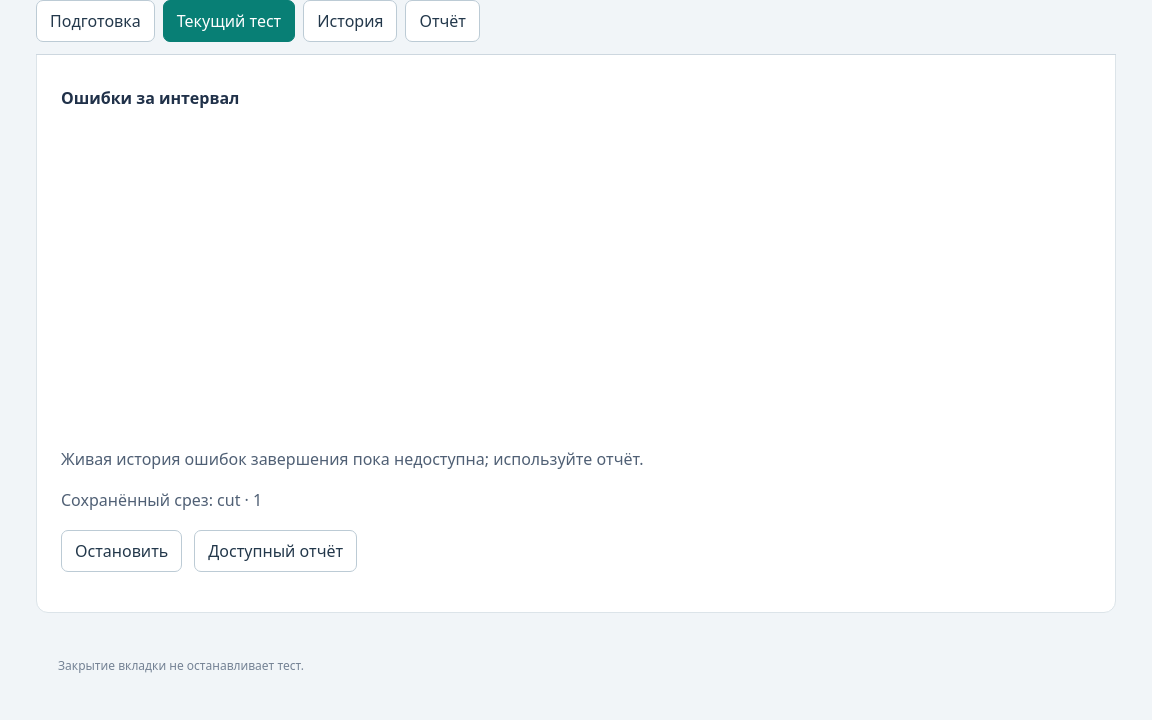
Scenario: appends sample pages and replaces changed chart revisions without mixing evidence
(page scrolled)
What coordinates should you click on to do the following:
click the button "Доступный отчёт"
I would click on:
 (276, 551)
Its box is [194,530,357,572].
(page scrolled)
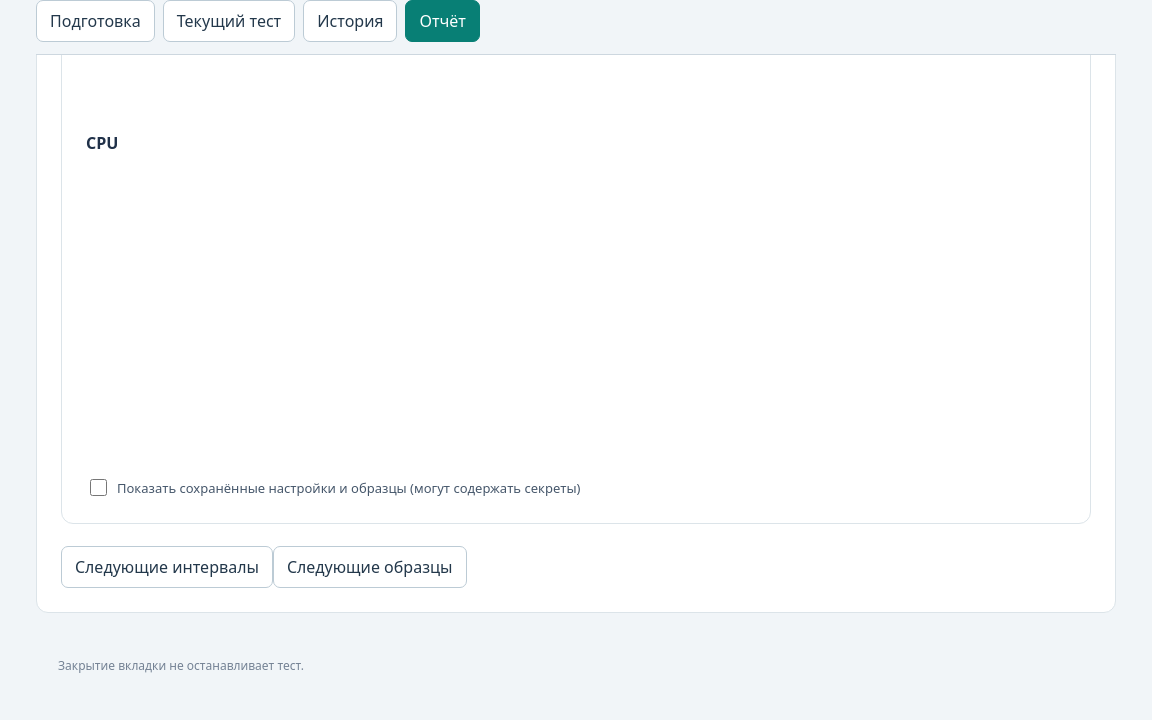
Result: the button "Следующие образцы" is shown
What coordinates should you click on to do the following:
click the button "Следующие образцы"
I would click on:
 (370, 567)
Its box is [273,546,467,588].
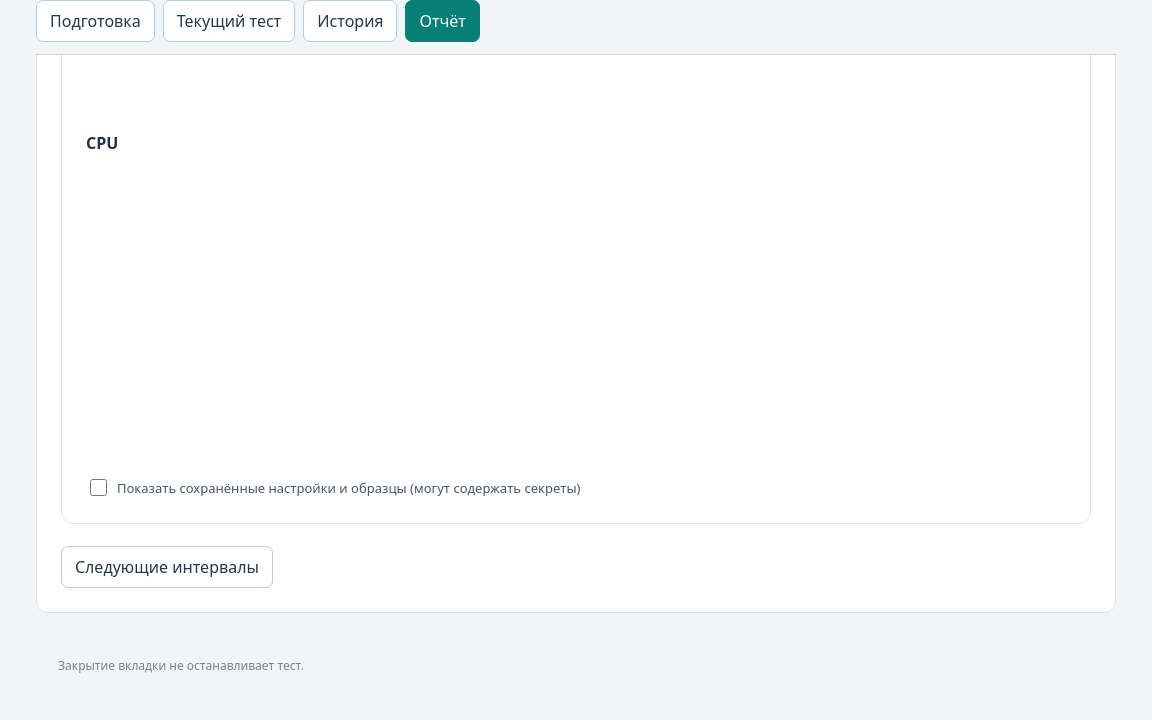
What coordinates should you click on to do the following:
click the checkbox
I would click on:
 (98, 488)
Its box is [90,479,107,496].
(page scrolled)
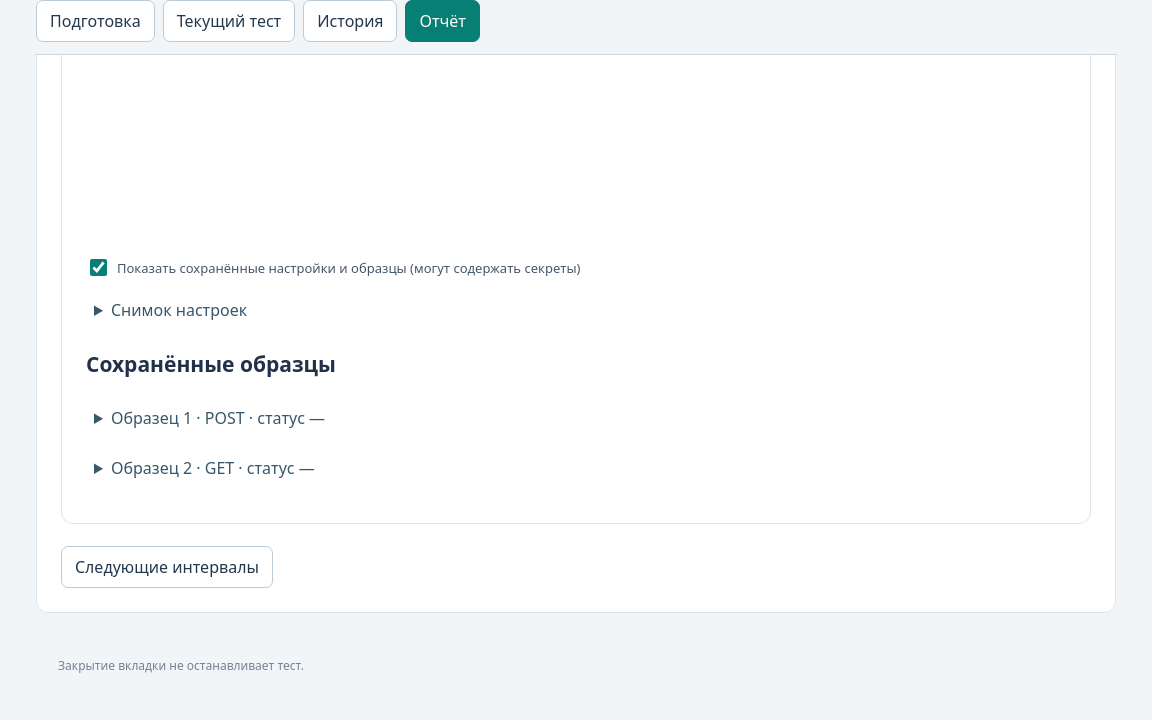
Result: the text "Образец 1" is shown at [111,407,325,429]
Result: the text "Образец 2" is shown at [111,457,315,479]
What coordinates should you click on to do the following:
click the button "Следующие интервалы"
I would click on:
 (167, 567)
Its box is [61,546,273,588].
(page scrolled)
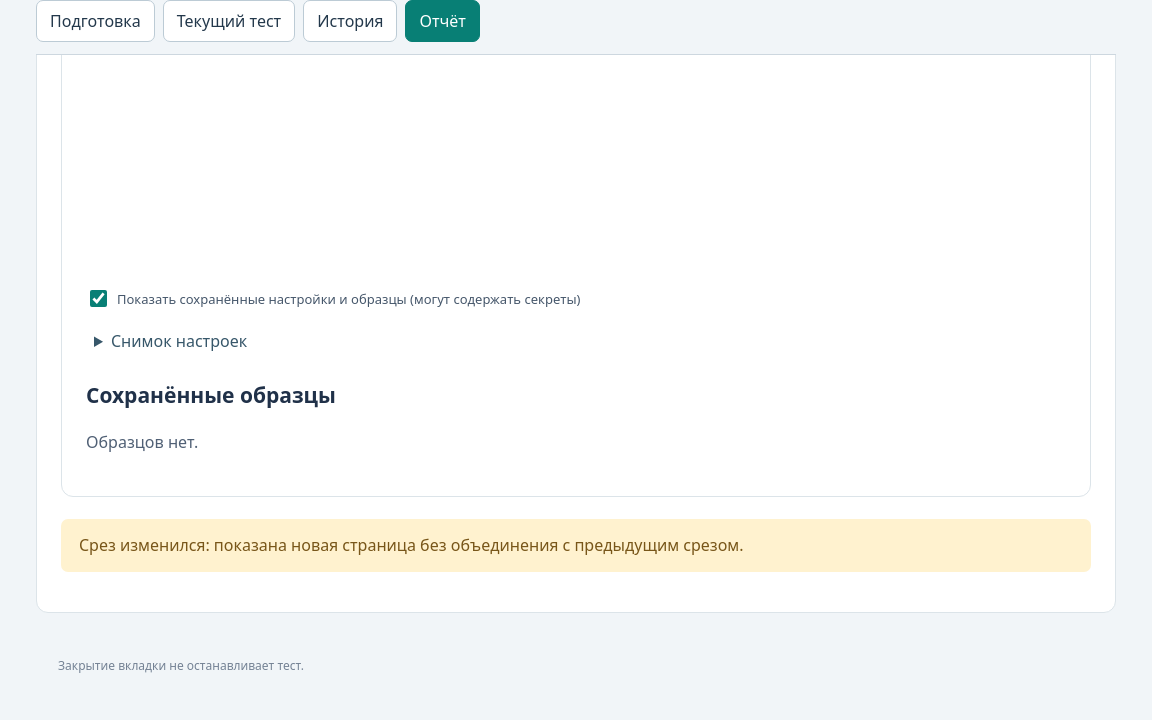
Result: the text "Срез изменился: показана новая страница" is shown at [79,534,744,556]
Result: the text "Образец 2" is gone
